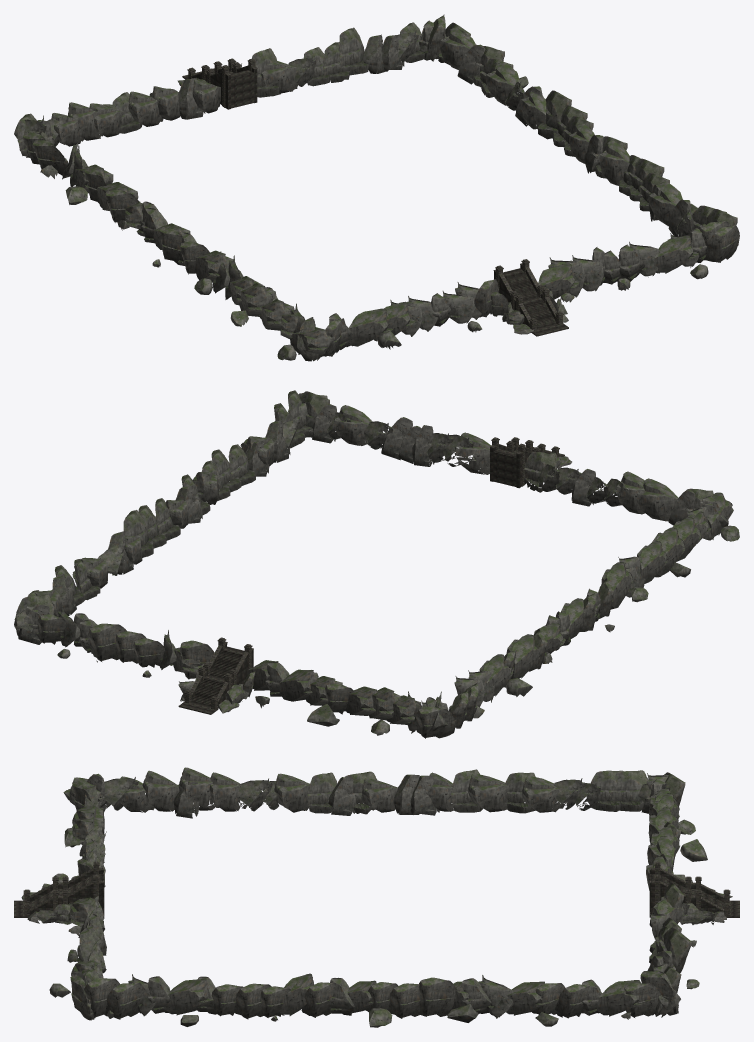
File: lot_base_v15.glb
3 renders of one model, top to bottom at view 1: azimuth 30°, elevation 25°; view 2: azimuth 150°, elevation 25°; view 3: azimuth 270°, elevation 25°, orthographic. The views are drawn at different scales.
Visible parts, largest first — view 1: stairs_back, stairs_front, cliff_b_n39_n39, cliff_b_n24_n24, cliff_d_n15_n15, cliff_d_n21_n21, cliff_b_n84_n84, cliff_b_n31_n31, cliff_b_n70_n70, cliff_b_n74_n74, cliff_b_n6_n6, cliff_b_n89_n89 (+30 smaller); view 2: stairs_front, stairs_back, cliff_b_n39_n39, cliff_b_n24_n24, cliff_d_n15_n15, cliff_b_n31_n31, cliff_d_n0_n0, cliff_b_n60_n60, cliff_b_n7_n7, cliff_b_n48_n48, cliff_b_n51_n51, cliff_b_n38_n38 (+29 smaller); view 3: stairs_back, stairs_front, cliff_d_n78_n78, cliff_b_n89_n89, cliff_b_n60_n60, cliff_d_n66_n66, cliff_b_n62_n62, cliff_d_n92_n92, cliff_b_n45_n45, cliff_b_n51_n51, cliff_b_n70_n70, cliff_b_n47_n47 (+45 smaller).
Part boxes in pixels (x1,y1,x2,y2): stairs_back: (493,259,568,336); stairs_front: (182,58,257,109); cliff_b_n39_n39: (348,308,393,346); cliff_b_n24_n24: (654,235,698,273); cliff_d_n15_n15: (338,27,368,75); cliff_d_n21_n21: (704,225,739,262); cliff_b_n84_n84: (599,140,629,185); cliff_b_n31_n31: (538,263,578,299); cliff_b_n70_n70: (440,27,475,70); cliff_b_n74_n74: (486,62,519,105); cliff_b_n6_n6: (128,91,163,126); cliff_b_n89_n89: (649,181,682,226); stairs_front: (178,637,253,714); stairs_back: (490,437,564,488); cliff_b_n39_n39: (637,478,678,521); cliff_b_n24_n24: (334,405,372,445); cliff_d_n15_n15: (88,623,126,662); cliff_b_n31_n31: (455,432,490,474); cliff_d_n0_n0: (416,706,455,738); cliff_b_n60_n60: (506,634,539,678); cliff_b_n7_n7: (279,669,318,701); cliff_b_n48_n48: (637,541,667,583); cliff_b_n51_n51: (601,562,633,609); cliff_b_n38_n38: (616,471,644,514); stairs_back: (14,861,104,917); stairs_front: (649,861,739,917); cliff_d_n78_n78: (418,977,456,1016); cliff_b_n89_n89: (165,978,213,1015); cliff_b_n60_n60: (468,773,508,812); cliff_d_n66_n66: (609,770,648,811); cliff_b_n62_n62: (522,776,563,812); cliff_d_n92_n92: (105,982,145,1019); cliff_b_n45_n45: (142,770,180,811); cliff_b_n51_n51: (274,773,309,812); cliff_b_n70_n70: (597,980,643,1016); cliff_b_n47_n47: (178,767,219,810).
Bounding box in the file's own units: 122 × 11.27 × 159.
Materials: 10 (10 with a texture image).
